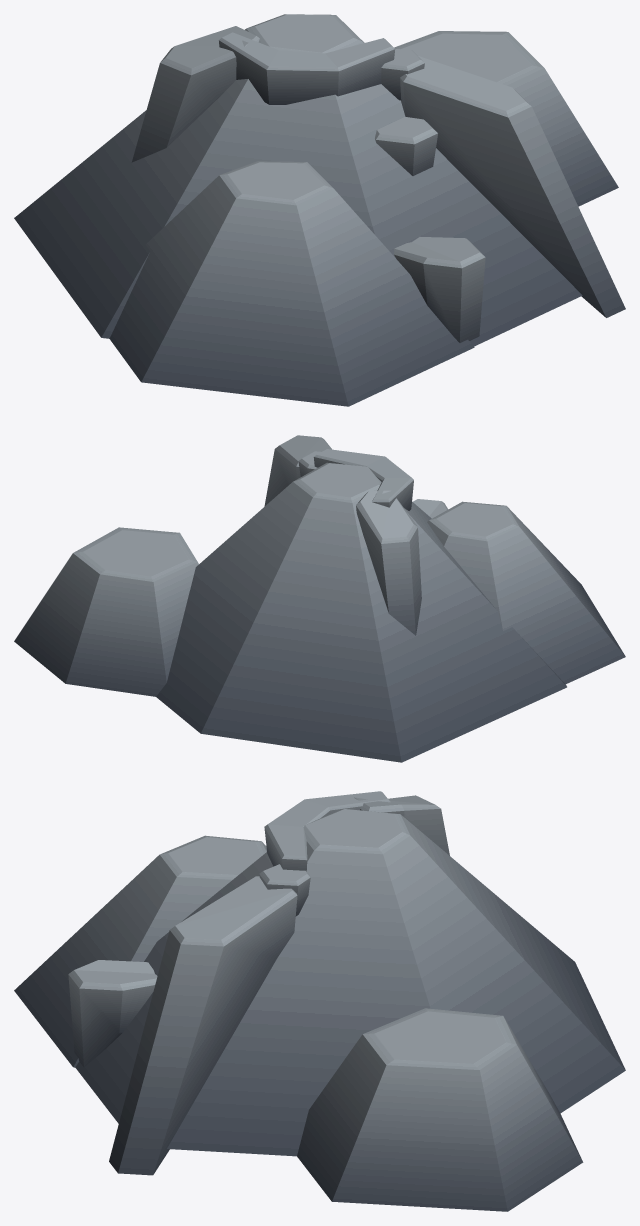
File: sm_forest_mountain.fbx
3 renders of one model, top to bottom at view 1: azimuth 30°, elevation 25°; view 2: azimuth 150°, elevation 25°; view 3: azimuth 270°, elevation 25°, orthographic. The views are drawn at different scales.
Visible parts, largest first — view 1: Cube.054; view 2: Cube.054; view 3: Cube.054.
Boxes of the visible parts, x1,y1,x2,y2 form: Cube.054: (14, 14, 625, 406); Cube.054: (14, 435, 625, 762); Cube.054: (14, 791, 625, 1211).
Bounding box in the file's own units: 6009 × 5436 × 2417.
